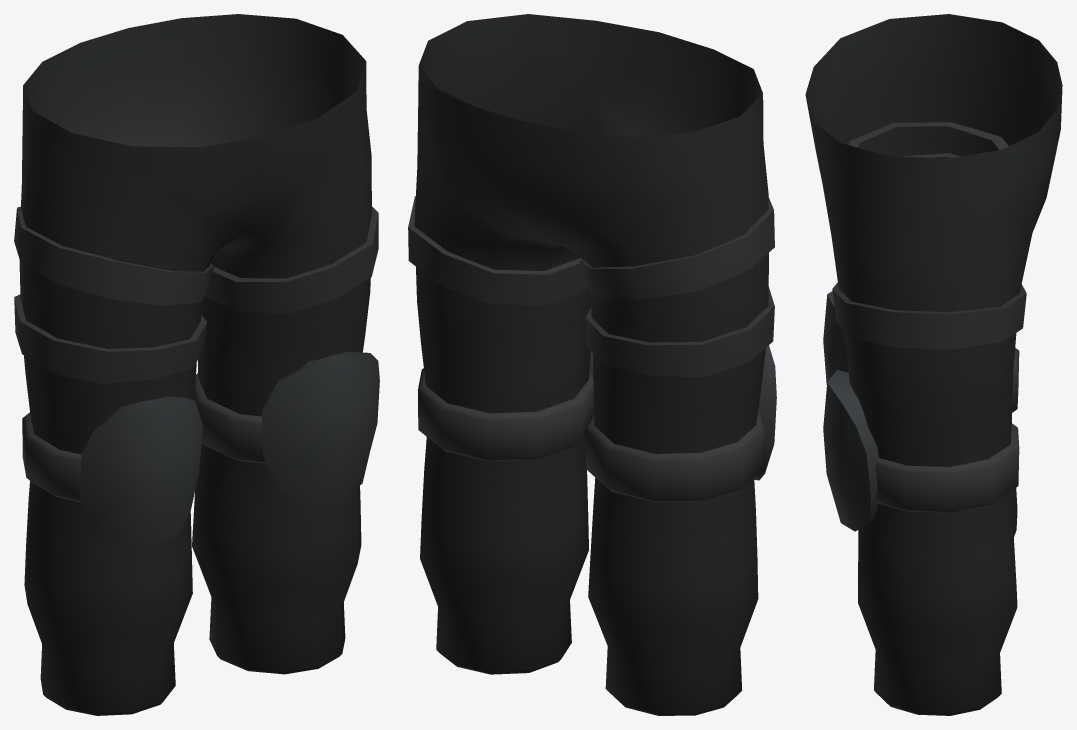
Rendered from pants_015.glb.
3 renders of one model, left to right at view 1: azimuth 30°, elevation 25°; view 2: azimuth 150°, elevation 25°; view 3: azimuth 270°, elevation 25°, orthographic. The views are drawn at different scales.
Visible parts, largest first — view 1: Pants_014; view 2: Pants_014; view 3: Pants_014.
Boxes of the visible parts, bbox=[...] form: Pants_014: bbox=[14, 14, 379, 715]; Pants_014: bbox=[408, 14, 776, 715]; Pants_014: bbox=[805, 14, 1062, 715].
Size of the model in its own units: 0.409 by 0.694 by 0.2845.
Materials: 1 (1 with a texture image).
